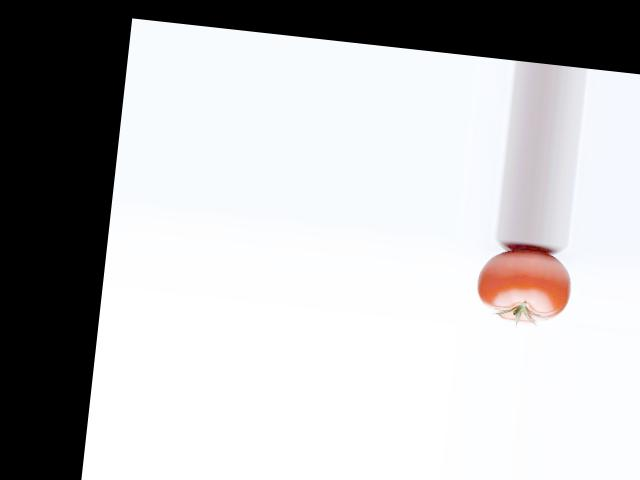tomato: (473, 245, 574, 326)
